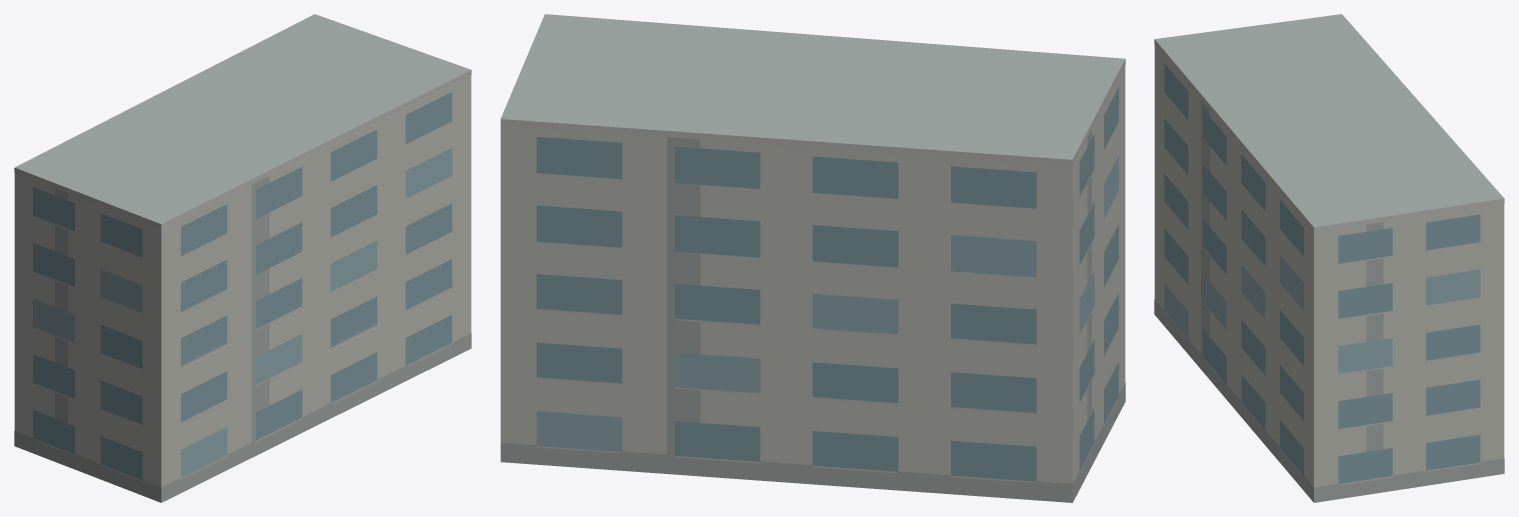
Rendered from survey-upis-32863972.glb.
The picture shows the model from 3 angles, left to right: view 1: azimuth 30°, elevation 25°; view 2: azimuth 150°, elevation 25°; view 3: azimuth 270°, elevation 25°; orthographic projection. The views are drawn at different scales.
Visible parts, largest first — view 1: survey-upis-32863972.tmp; view 2: survey-upis-32863972.tmp; view 3: survey-upis-32863972.tmp.
Boxes of the visible parts, left/top/right/bottom form: survey-upis-32863972.tmp: left=14, top=14, right=471, bottom=502; survey-upis-32863972.tmp: left=500, top=14, right=1125, bottom=502; survey-upis-32863972.tmp: left=1154, top=14, right=1504, bottom=502.
Size of the model in its own units: 22.31 by 13.41 by 15.46.
